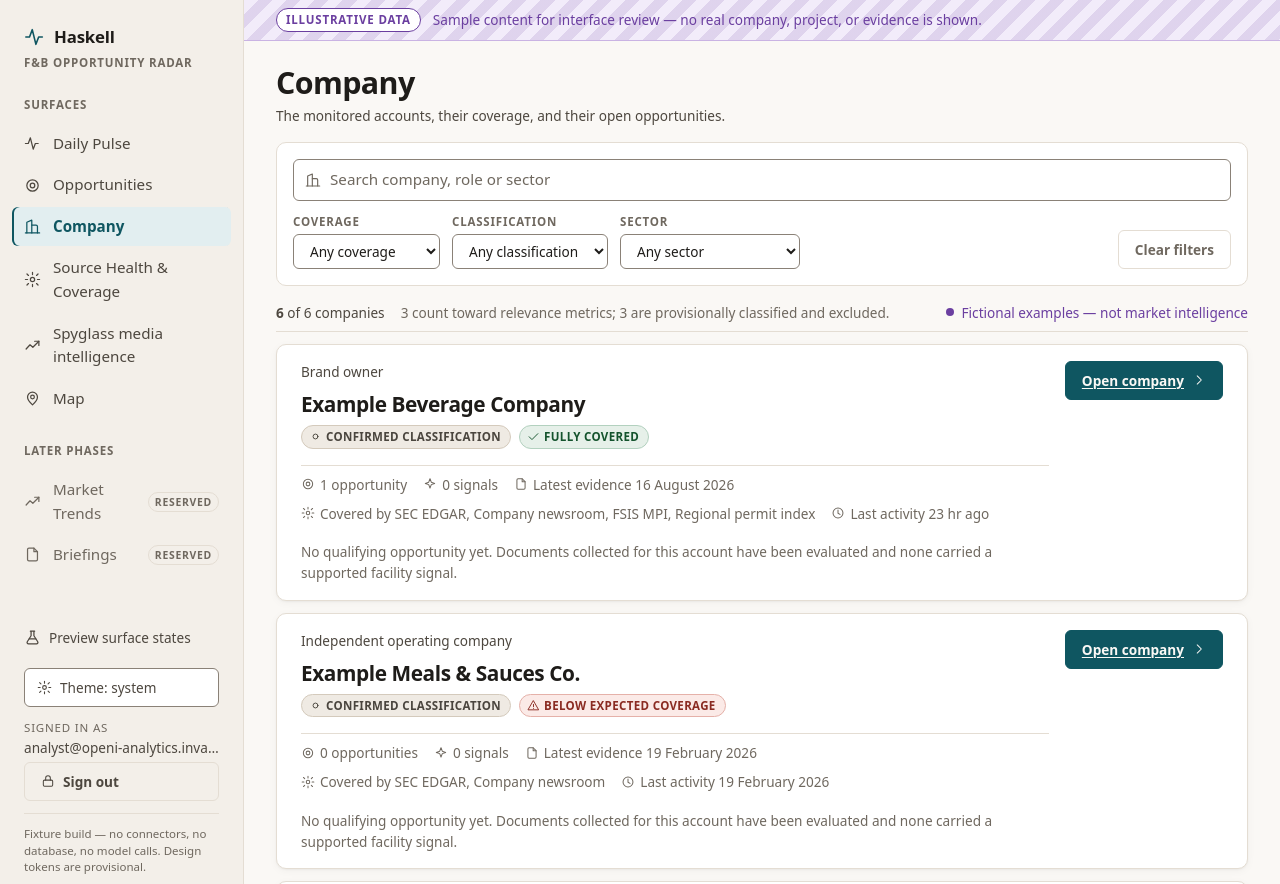
company detail › opens the company a row links to
The image size is (1280, 884).
Expected: the heading "Company" is shown, [276, 62, 415, 103]
Step 1. Click the link "Open company" in the row of "Example Meals & Sauces Co." → point(1144, 649), box [1065, 630, 1223, 669]
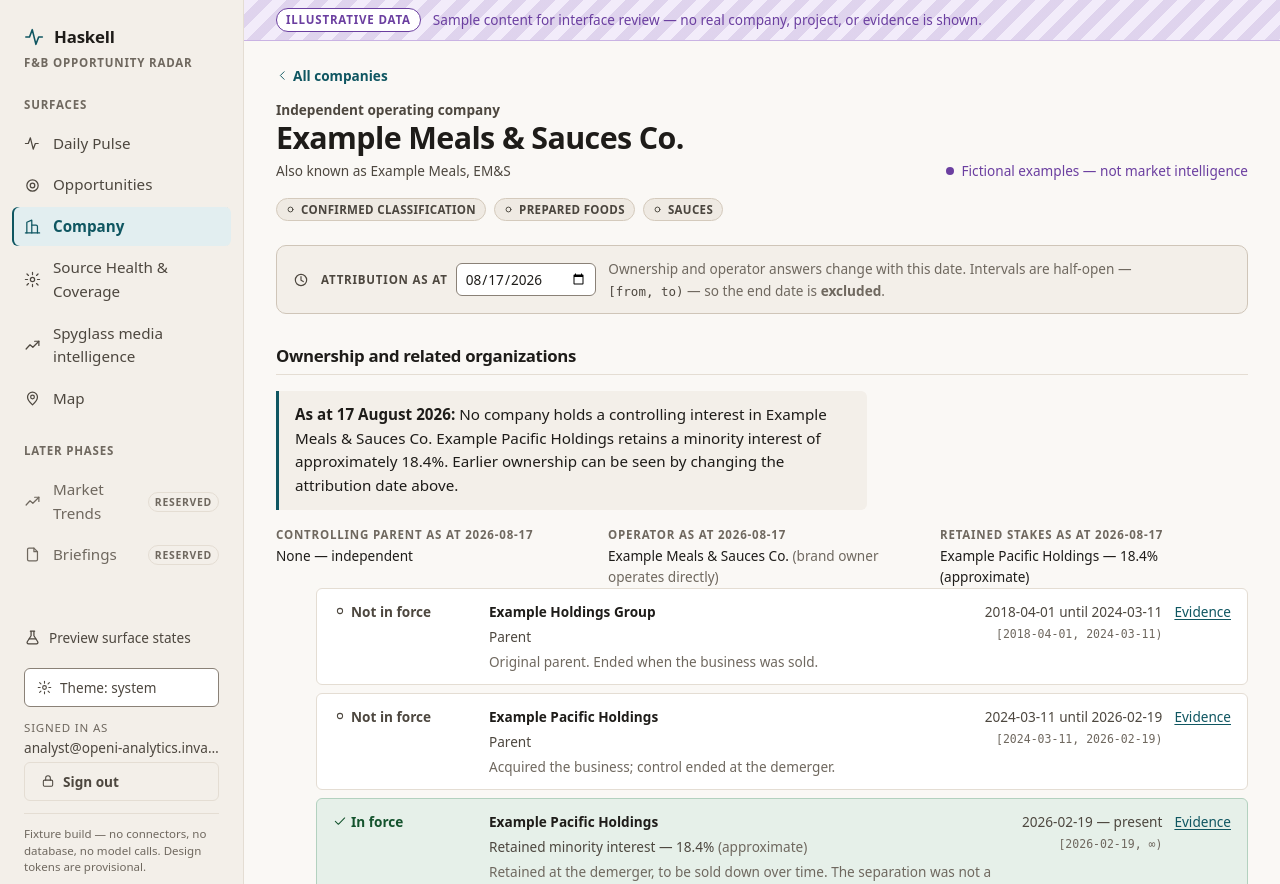
Expected: the heading "Example Meals & Sauces Co." is shown, [276, 120, 684, 156]
